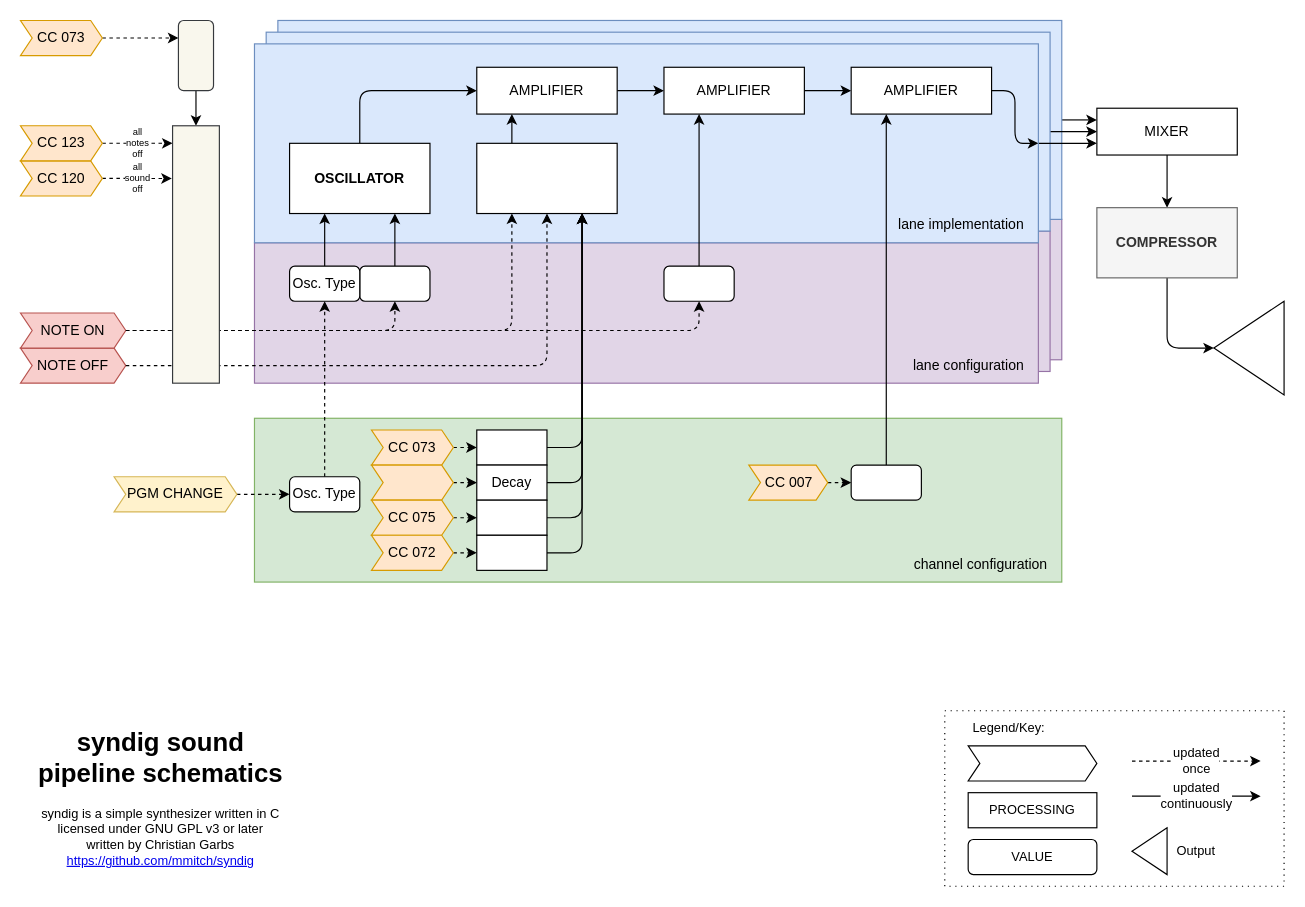
The diagram is 1305 pixels wide and 907 high, and some of its shapes have lost their labels. The shapes that lost their labels are listed below. From the top down, each one's centre as x and y in pixels, then its label:
At point (195, 55): "Poly Mode".
At point (546, 178): "ENVELOPE".
At point (195, 254): "POLYPHONY HANDLER".
At point (394, 283): "Frequency".
At point (698, 283): "Velocity".
At point (511, 447): "Attack".
At point (411, 482): "CC 076".
At point (885, 482): "Volume".
At point (511, 517): "Sustain".
At point (511, 552): "Release".
At point (1032, 763): "MIDI EVENT".
